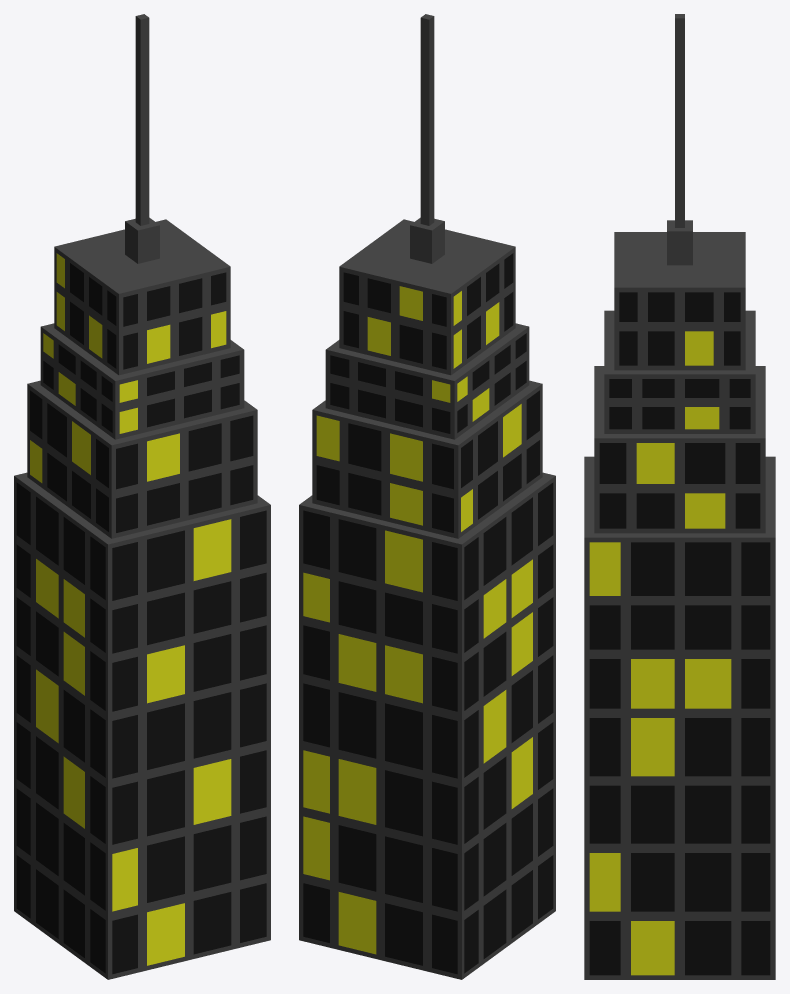
The model's file is Tower_4.FBX.
3 views of the same model, side by side, from view 1: azimuth 30°, elevation 25°; view 2: azimuth 150°, elevation 25°; view 3: azimuth 270°, elevation 25° (orthographic).
Parts seen in each view (by area): view 1: Box004; view 2: Box004; view 3: Box004.
Boxes of the visible parts, <box> form: Box004: <box>14,14,270,979</box>; Box004: <box>299,14,555,979</box>; Box004: <box>584,14,775,979</box>.
Size of the model in its own units: 29.09 by 155 by 29.09.
